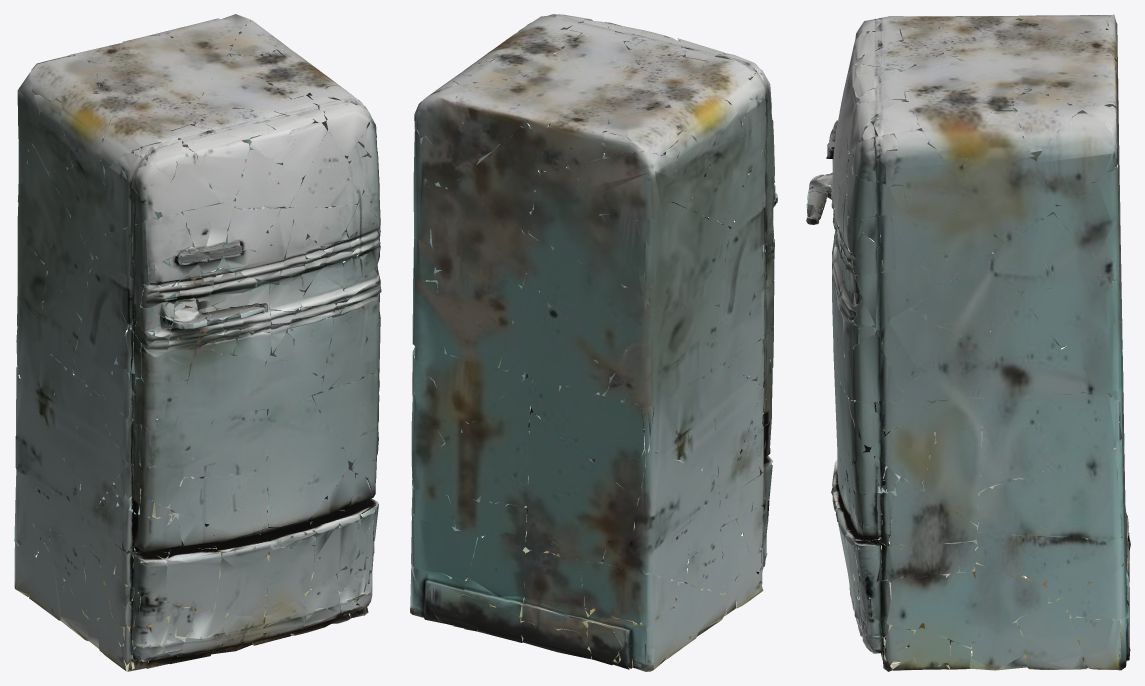
File: SovietFridge.glb
3 renders of one model, left to right at view 1: azimuth 30°, elevation 25°; view 2: azimuth 150°, elevation 25°; view 3: azimuth 270°, elevation 25°, orthographic. The views are drawn at different scales.
Visible parts, largest first — view 1: SovietFridge; view 2: SovietFridge; view 3: SovietFridge.
Part boxes in pixels (left/top/right/bottom): SovietFridge: left=14, top=14, right=381, bottom=671; SovietFridge: left=410, top=14, right=777, bottom=671; SovietFridge: left=806, top=14, right=1130, bottom=671.
Size of the model in its own units: 0.871 by 1.8 by 0.9655.
1 material, 1 textured.
